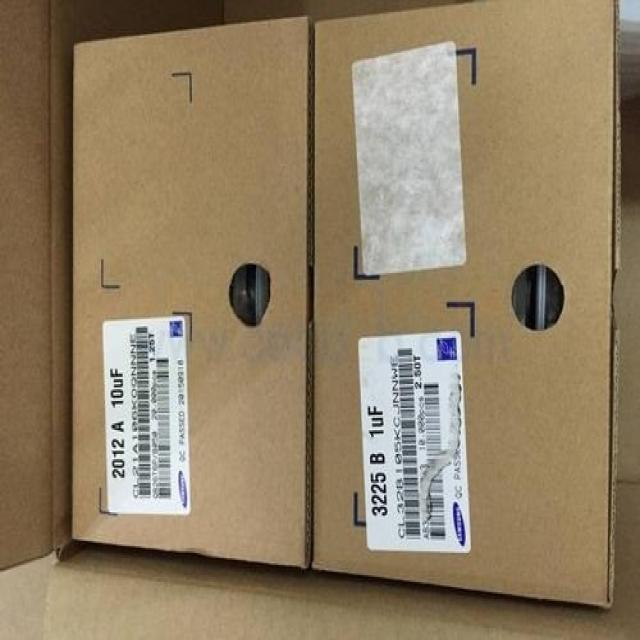box: (313, 0, 618, 609), (71, 15, 314, 569)
